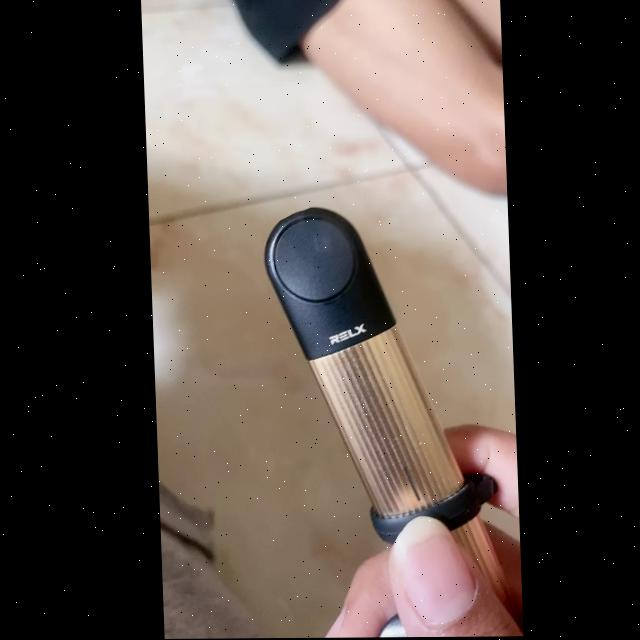vape: (257, 203, 518, 639)
